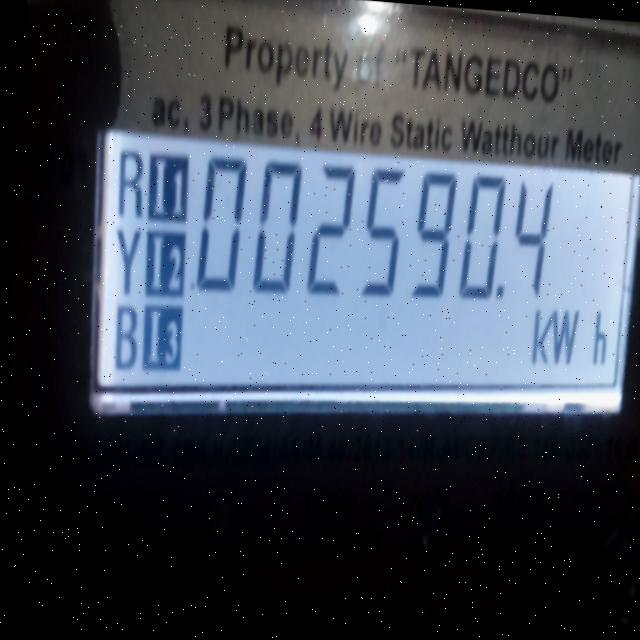.: (495, 283, 503, 299)
0: (188, 154, 250, 294), (246, 161, 303, 295), (454, 175, 504, 300)
2: (303, 164, 356, 300)
4: (508, 180, 553, 299)
5: (354, 169, 405, 300)
9: (410, 171, 458, 296)
